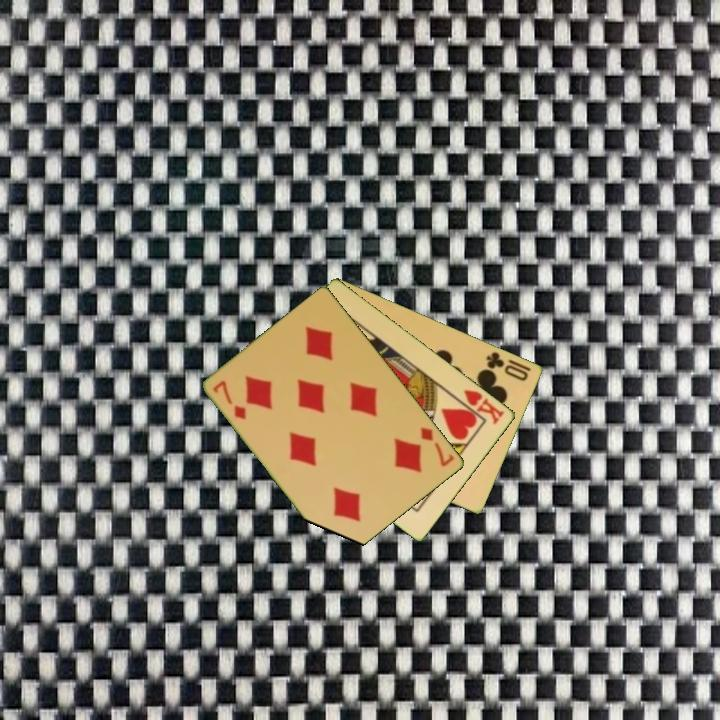10c: (483, 348, 534, 384)
7d: (417, 424, 458, 470), (209, 377, 249, 423)
Kh: (453, 386, 508, 427)
